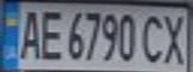0: (118, 10, 142, 63)
6: (63, 7, 84, 61)
7: (81, 8, 103, 61)
9: (100, 9, 121, 62)
A: (15, 6, 45, 61)
C: (139, 10, 169, 64)
E: (36, 6, 66, 61)
X: (160, 10, 193, 65)
